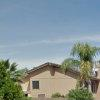Palm tree: (65, 38, 96, 98)
